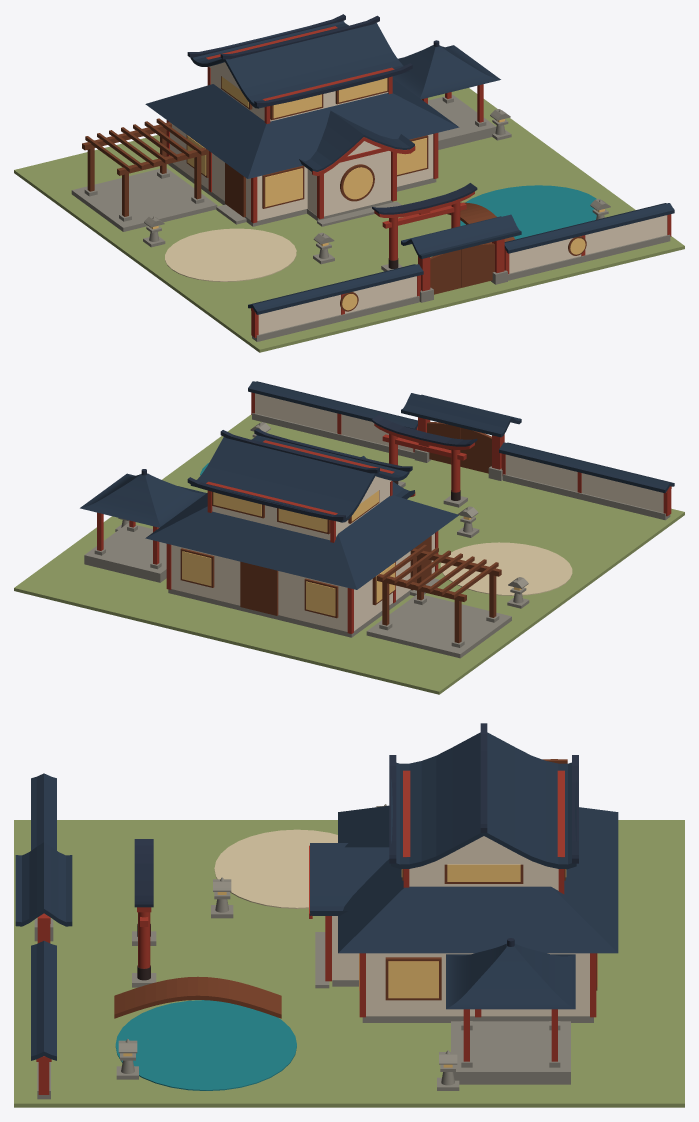
The model's file is oriental.glb.
The picture shows the model from 3 angles, top to bottom: view 1: azimuth 30°, elevation 25°; view 2: azimuth 150°, elevation 25°; view 3: azimuth 270°, elevation 25°; orthographic projection. The views are drawn at different scales.
Parts seen in each view (by area): view 1: oriental-lawn-terreno, oriental-graphite-telhado-baixo, oriental-graphite-telhado-superior, oriental-sand-areia-jardim-zen, oriental-stone-pergolado-plataforma, oriental-water-espelho-do-lago, oriental-graphite-pagode-telhado, oriental-lime-muro-painel-1, oriental-lime-muro-painel--1, oriental-graphite-portao-telhado, oriental-lime-parede-do-frontao, oriental-graphite-telhado-do-frontao (+25 smaller); view 2: oriental-lawn-terreno, oriental-graphite-telhado-baixo, oriental-graphite-telhado-superior, oriental-stone-pergolado-plataforma, oriental-sand-areia-jardim-zen, oriental-lime-terreo-parede--1-frontal, oriental-graphite-pagode-telhado, oriental-lime-muro-painel--1, oriental-stone-pagode-plataforma, oriental-lime-muro-painel-1, oriental-graphite-portao-telhado, oriental-graphite-muro-telhas--1 (+20 smaller); view 3: oriental-lawn-terreno, oriental-graphite-telhado-baixo, oriental-graphite-telhado-superior, oriental-water-espelho-do-lago, oriental-graphite-pagode-telhado, oriental-stone-pagode-plataforma, oriental-sand-areia-jardim-zen, oriental-lime-terreo-parede-1-lateral, oriental-graphite-portao-telhado, oriental-graphite-telhado-do-frontao, oriental-cedar-ponte-arco, oriental-graphite-muro-telhas-1 (+15 smaller).
Part boxes in pixels (x1,y1,x2,y2): oriental-lawn-terreno: (14, 88, 684, 352); oriental-graphite-telhado-baixo: (145, 79, 459, 178); oriental-graphite-telhado-superior: (190, 21, 409, 108); oriental-sand-areia-jardim-zen: (165, 228, 296, 281); oriental-stone-pergolado-plataforma: (71, 168, 217, 231); oriental-water-espelho-do-lago: (460, 185, 596, 239); oriental-graphite-pagode-telhado: (392, 45, 500, 99); oriental-lime-muro-painel-1: (509, 215, 667, 273); oriental-lime-muro-painel--1: (258, 276, 416, 334); oriental-graphite-portao-telhado: (401, 214, 521, 258); oriental-lime-parede-do-frontao: (316, 151, 390, 216); oriental-graphite-telhado-do-frontao: (299, 110, 414, 171); oriental-lawn-terreno: (14, 414, 684, 694); oriental-graphite-telhado-baixo: (145, 493, 458, 589); oriental-graphite-telhado-superior: (190, 435, 409, 522); oriental-stone-pergolado-plataforma: (366, 594, 511, 658); oriental-sand-areia-jardim-zen: (440, 542, 572, 595); oriental-lime-terreo-parede--1-frontal: (171, 545, 354, 631); oriental-graphite-pagode-telhado: (80, 473, 206, 527); oriental-lime-muro-painel--1: (505, 454, 663, 512); oriental-stone-pagode-plataforma: (84, 523, 166, 582); oriental-lime-muro-painel-1: (255, 393, 413, 451); oriental-graphite-portao-telhado: (401, 393, 521, 437); oriental-graphite-muro-telhas--1: (499, 442, 674, 493); oriental-lawn-terreno: (14, 820, 684, 1107); oriental-graphite-telhado-baixo: (338, 805, 618, 953); oriental-graphite-telhado-superior: (391, 732, 576, 869); oriental-water-espelho-do-lago: (115, 1000, 296, 1090); oriental-graphite-pagode-telhado: (446, 943, 575, 1009); oriental-stone-pagode-plataforma: (451, 1021, 570, 1084); oriental-sand-areia-jardim-zen: (214, 829, 337, 908); oriental-lime-terreo-parede-1-lateral: (370, 953, 586, 1016); oriental-graphite-portao-telhado: (15, 842, 72, 926); oriental-graphite-telhado-do-frontao: (310, 843, 389, 915); oriental-cedar-ponte-arco: (114, 976, 281, 1018); oriental-graphite-muro-telhas-1: (31, 941, 56, 1060).
Bounding box in the file's own units: 23.2 × 7.26 × 23.2.
